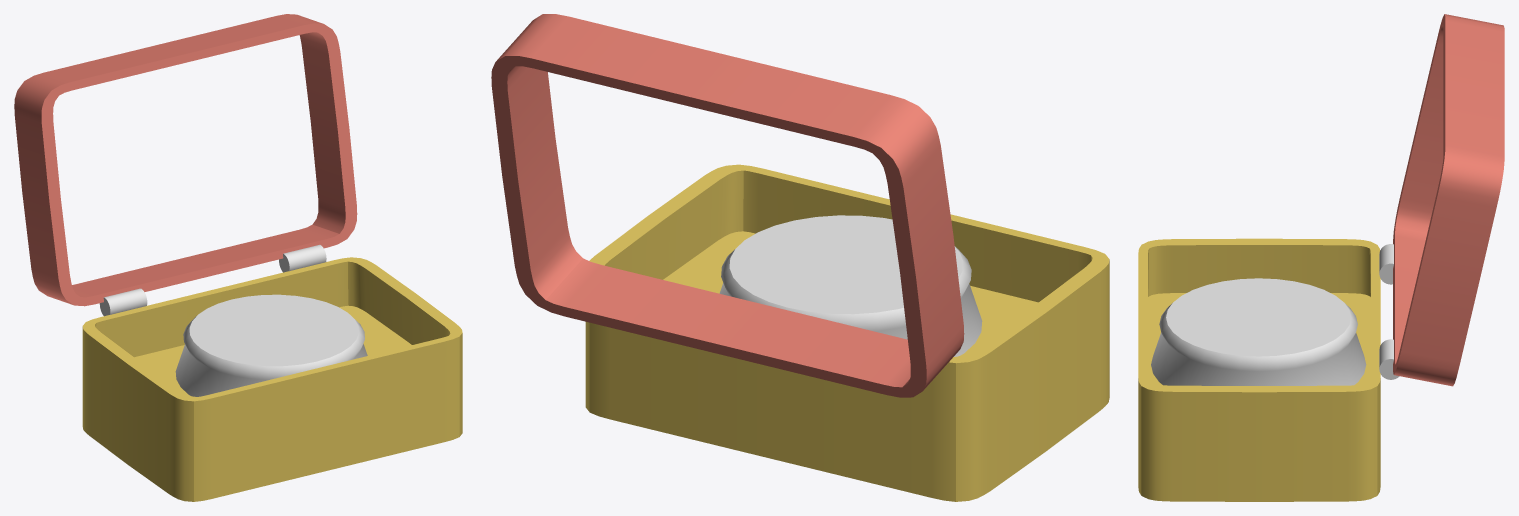
3 views of the same model, side by side, from view 1: azimuth 30°, elevation 25°; view 2: azimuth 150°, elevation 25°; view 3: azimuth 270°, elevation 25° (orthographic). The views are drawn at different scales.
Parts seen in each view (by area): view 1: box, lid, platform, cernieraR, cernieraL; view 2: box, lid, platform; view 3: box, lid, platform, cernieraR, cernieraL.
Boxes of the visible parts, x1=… form: box: x1=82, y1=257, x2=462, y2=501; lid: x1=14, y1=14, x2=357, y2=306; platform: x1=175, y1=294, x2=367, y2=396; cernieraR: x1=279, y1=244, x2=326, y2=272; cernieraL: x1=99, y1=288, x2=147, y2=316; box: x1=585, y1=164, x2=1109, y2=501; lid: x1=491, y1=14, x2=964, y2=397; platform: x1=719, y1=215, x2=982, y2=356; box: x1=1138, y1=238, x2=1380, y2=501; lid: x1=1393, y1=14, x2=1504, y2=386; platform: x1=1151, y1=278, x2=1366, y2=385; cernieraR: x1=1379, y1=339, x2=1399, y2=379; cernieraL: x1=1379, y1=244, x2=1393, y2=284.
Bounding box in the file's own units: 62.4 × 62.39 × 60.49.
